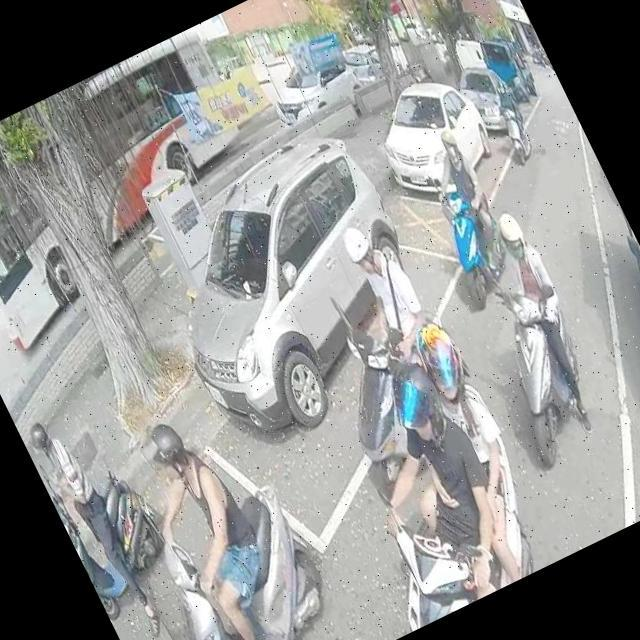person: (317, 346, 534, 624), (354, 323, 560, 603), (110, 398, 312, 640), (15, 402, 167, 640), (472, 198, 620, 438), (402, 115, 522, 292), (330, 212, 442, 371), (490, 78, 526, 130)
